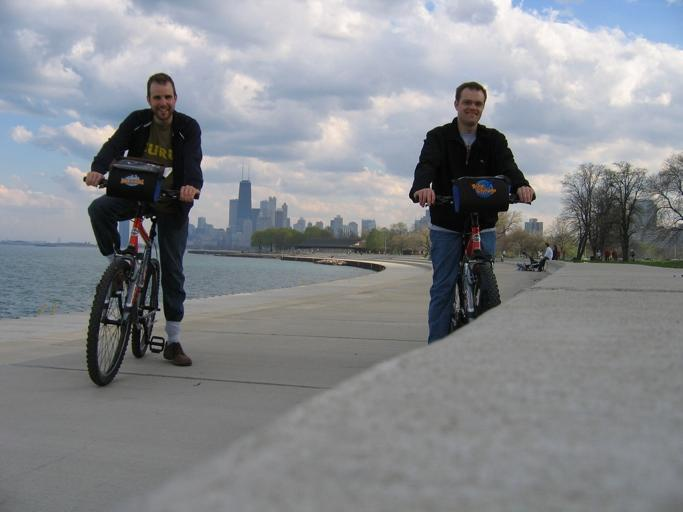non-vehicle: (73, 171, 203, 391), (409, 181, 535, 333)
